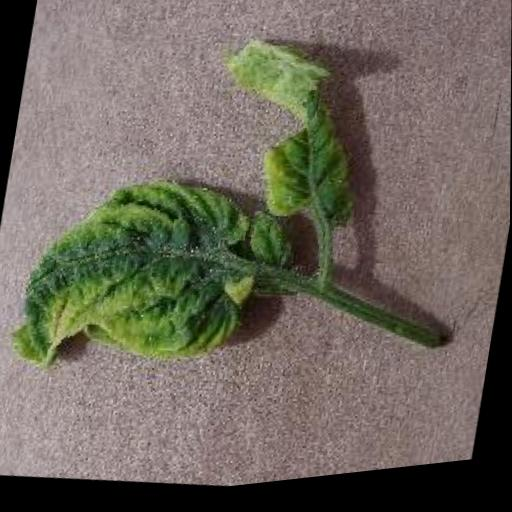Yellow Leaf Curl Virus: (6, 149, 303, 405), (203, 29, 381, 248)
